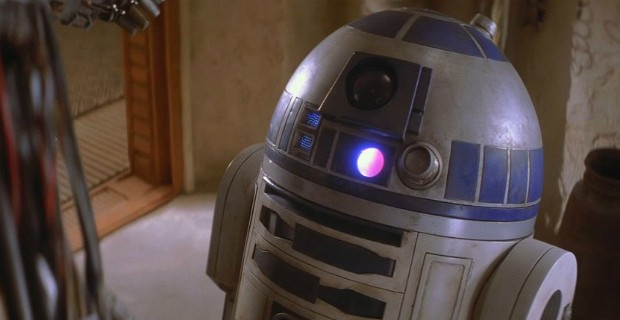r2d2: (205, 8, 578, 320)
